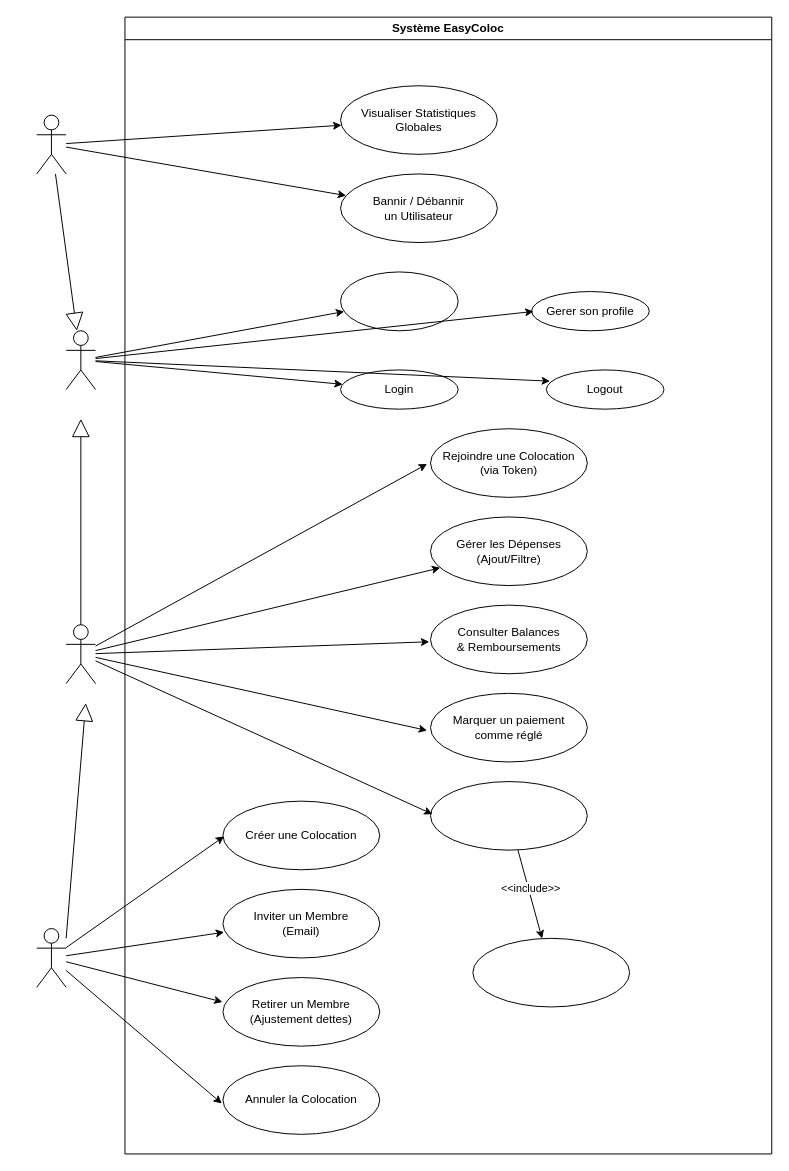
Some shapes in this 789 by 1171 pixel diagram are drawn without their labels. The centre of each missing label's shape, as x and y in pixels:
Ajuster La Réputation (-1/+1): (551,972)
Global Admin: (51,144)
member: (80,654)
Owner: (51,957)
Quitter la Colocation: (508,815)
Register (1er inscrit va etre admin): (399,301)
User: (80,360)
